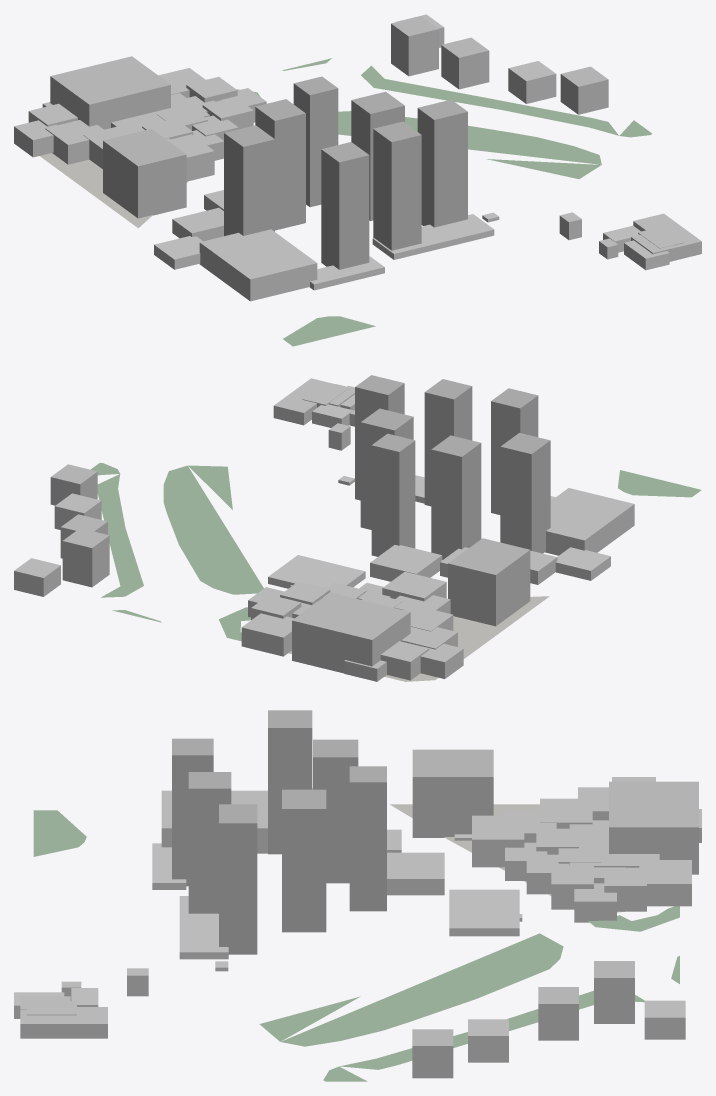
File: 135_89_mid.glb
3 renders of one model, top to bottom at view 1: azimuth 30°, elevation 25°; view 2: azimuth 150°, elevation 25°; view 3: azimuth 270°, elevation 25°, orthographic. The views are drawn at different scales.
Bounding box in the file's own units: 513 × 114 × 532.
